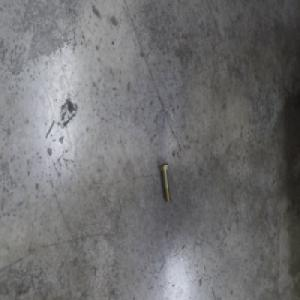Bolt: (160, 163, 172, 205)
